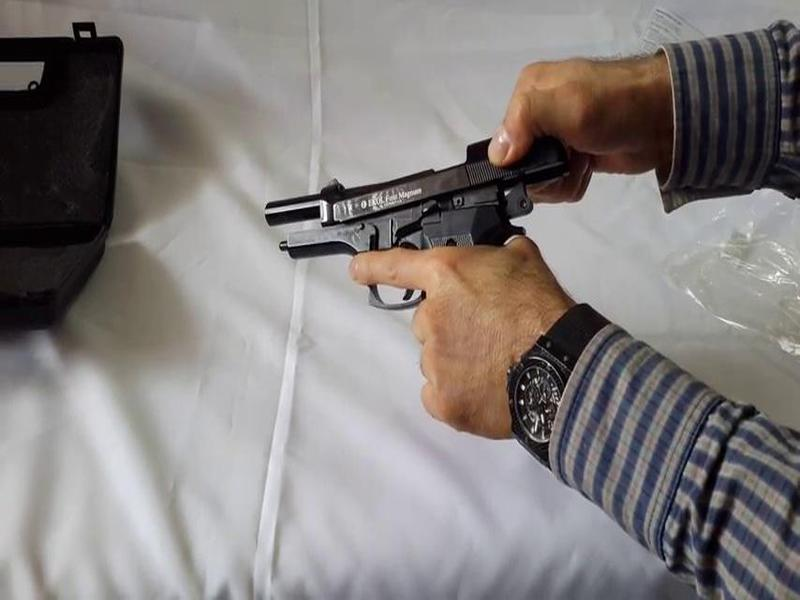Pistola: (253, 130, 579, 375)
